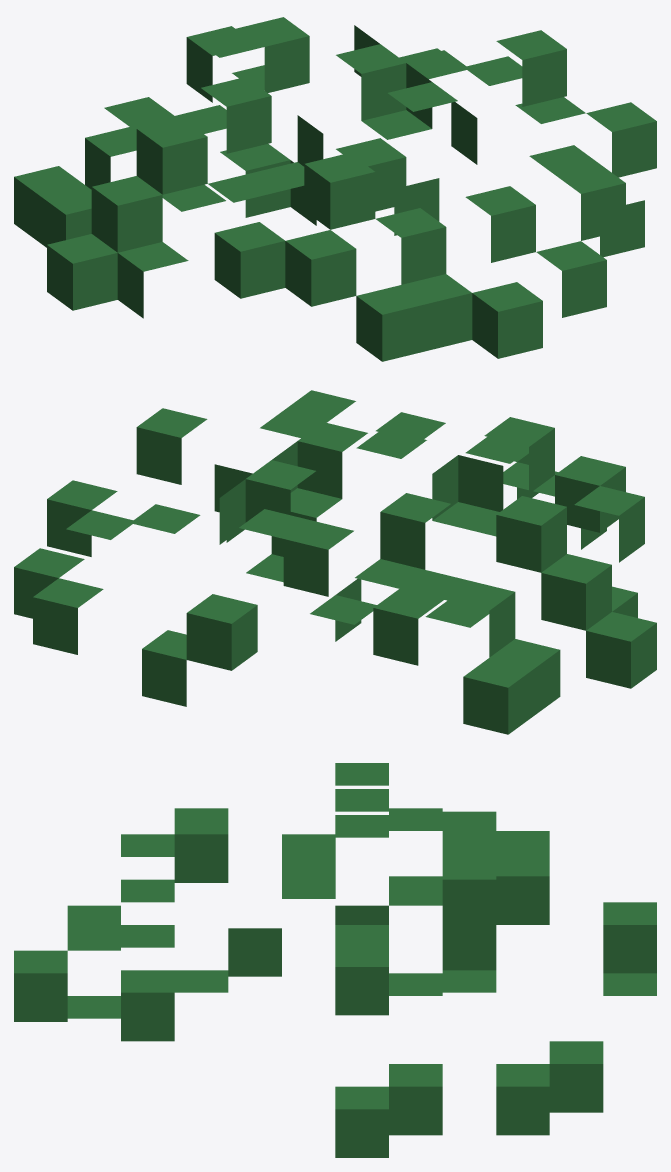
File: tree-pine-1p2-357a41.gltf
3 views of the same model, one above another, from view 1: azimuth 30°, elevation 25°; view 2: azimuth 150°, elevation 25°; view 3: azimuth 270°, elevation 25° (orthographic). The views are drawn at different scales.
Parts seen in each view (by area): view 1: tree-pine-1p2-357a41; view 2: tree-pine-1p2-357a41; view 3: tree-pine-1p2-357a41.
Part boxes in pixels (x1=…): tree-pine-1p2-357a41: x1=14, y1=17, x2=656, y2=361; tree-pine-1p2-357a41: x1=14, y1=390, x2=656, y2=734; tree-pine-1p2-357a41: x1=14, y1=763, x2=656, y2=1157.
Bounding box in the file's own units: 13 × 3 × 12.
